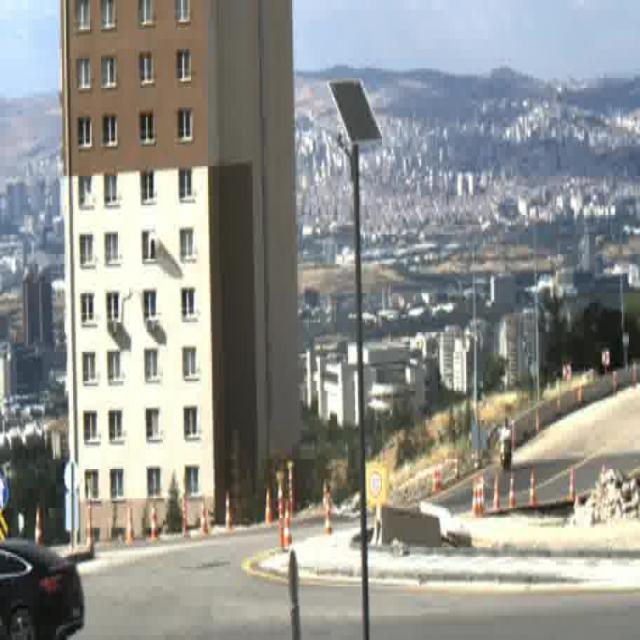Car: (0, 538, 84, 640)
Motorcycle: (496, 416, 516, 473)
